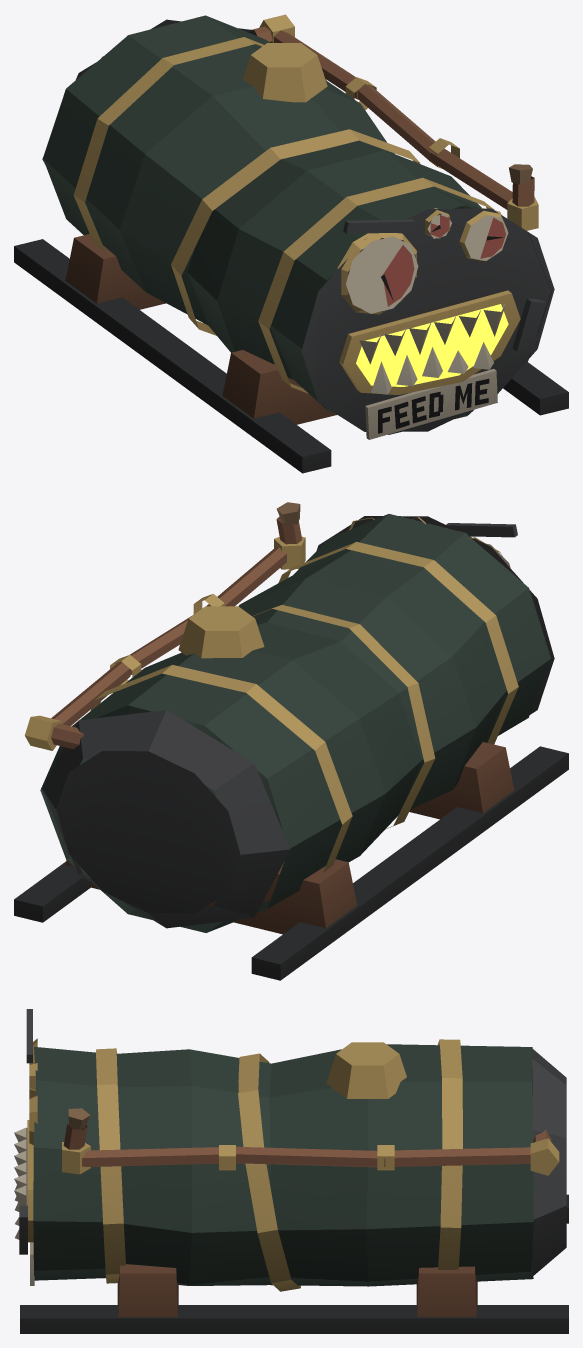
Rendered from boiler.glb.
3 renders of one model, top to bottom at view 1: azimuth 30°, elevation 25°; view 2: azimuth 150°, elevation 25°; view 3: azimuth 270°, elevation 25°, orthographic. The views are drawn at different scales.
Visible parts, largest first — view 1: Boiler; view 2: Boiler; view 3: Boiler.
Part boxes in pixels (<box>): Boiler: <box>14,14,568,473</box>; Boiler: <box>14,502,568,980</box>; Boiler: <box>14,1009,568,1333</box>.
Bounding box in the file's own units: 2.42 × 2.12 × 4.55.
